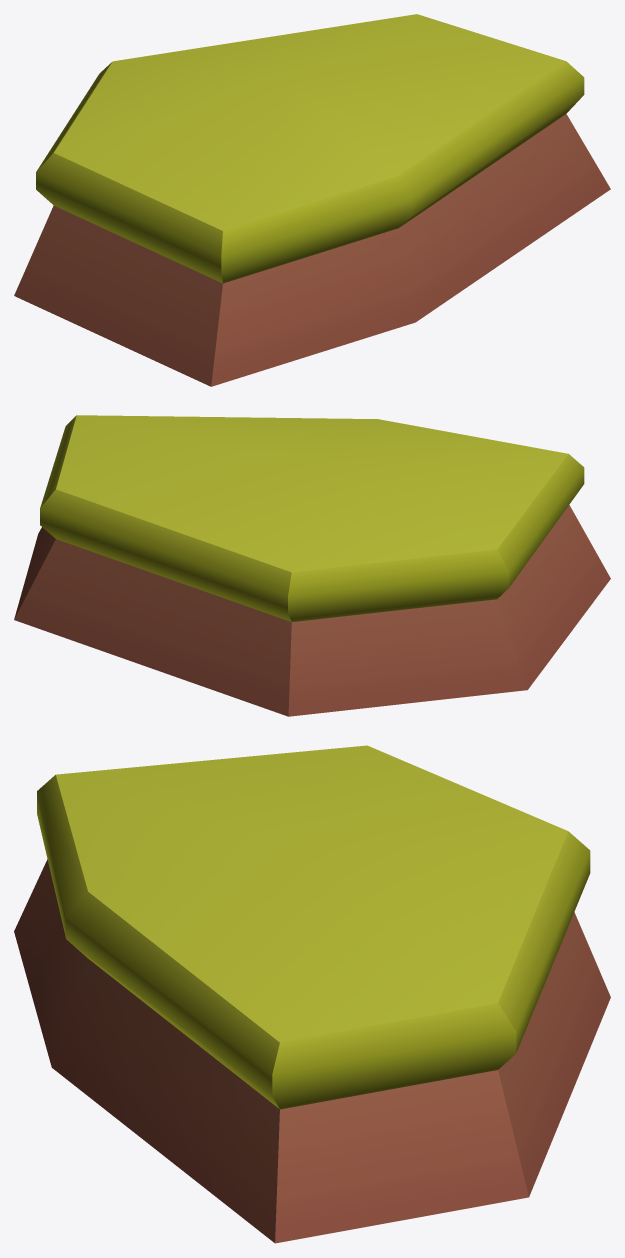
File: hill-single-a.glb
3 renders of one model, top to bottom at view 1: azimuth 30°, elevation 25°; view 2: azimuth 150°, elevation 25°; view 3: azimuth 270°, elevation 25°, orthographic. The views are drawn at different scales.
Parts seen in each view (by area): view 1: hill_single_A; view 2: hill_single_A; view 3: hill_single_A.
Part boxes in pixels (box(x1,y1,x2,y2)): hill_single_A: box(14, 14, 610, 386); hill_single_A: box(14, 415, 610, 716); hill_single_A: box(14, 745, 610, 1243).
Bounding box in the file's own units: 1.11 × 0.3073 × 0.8094.
Materials: 1 (1 with a texture image).
